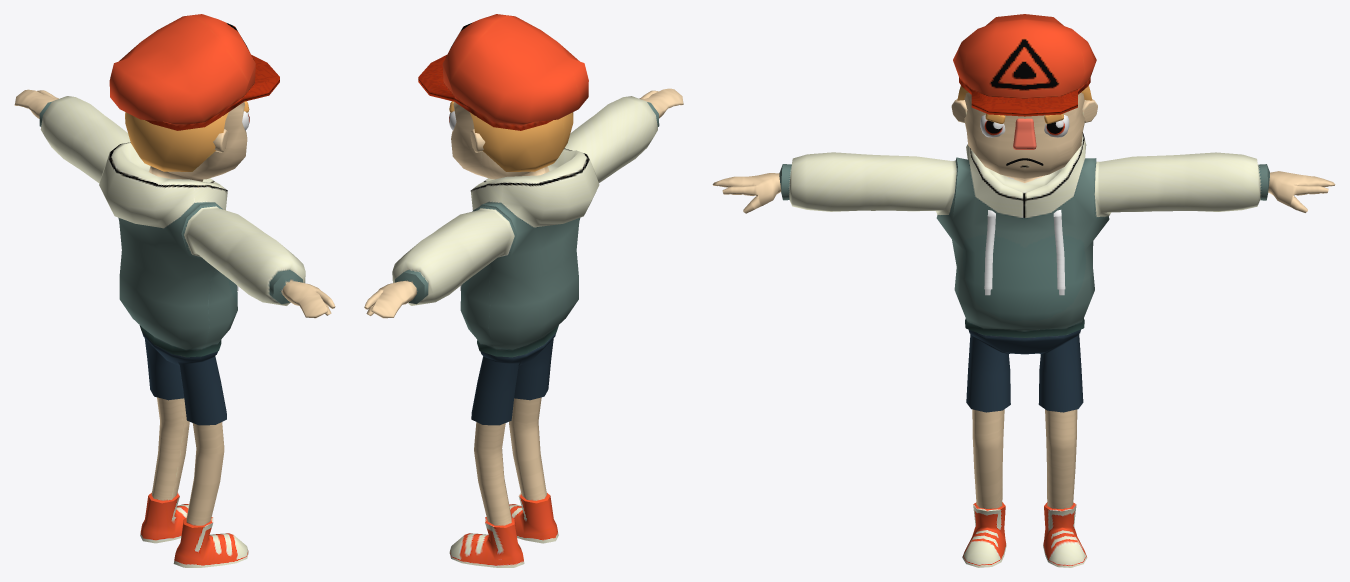
File: player-man.glb
3 renders of one model, left to right at view 1: azimuth 30°, elevation 25°; view 2: azimuth 150°, elevation 25°; view 3: azimuth 270°, elevation 25°, orthographic. The views are drawn at different scales.
Visible parts, largest first — view 1: pCube3; view 2: pCube3; view 3: pCube3.
Part boxes in pixels (x1=…): pCube3: x1=14, y1=14, x2=335, y2=567; pCube3: x1=364, y1=14, x2=683, y2=567; pCube3: x1=712, y1=14, x2=1335, y2=567.
Bounding box in the file's own units: 1.46 × 4.51 × 4.75.
Materials: 1 (1 with a texture image).
